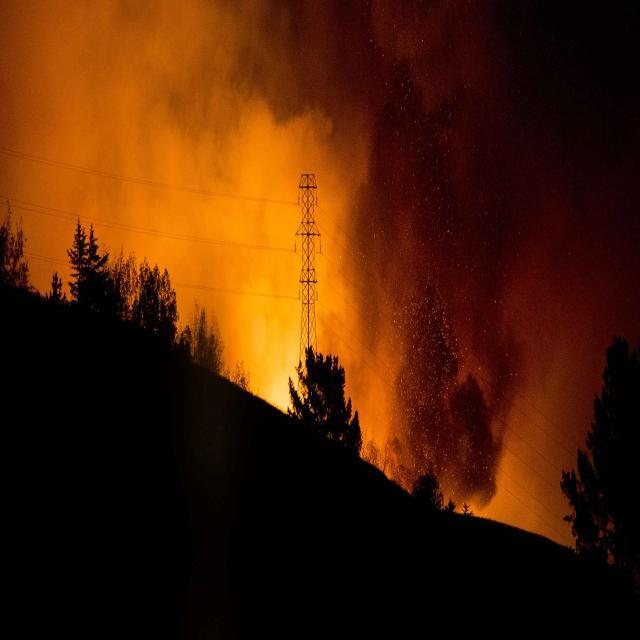Smoke: (231, 0, 534, 532)
